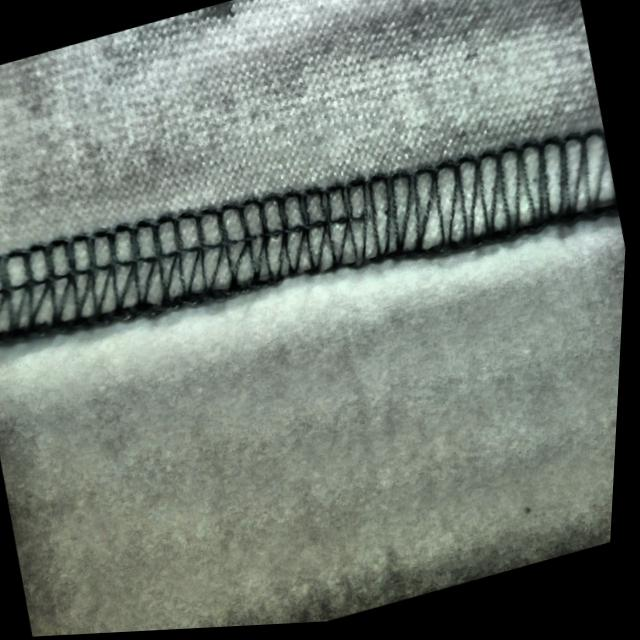Stitch: (146, 110, 584, 335)
